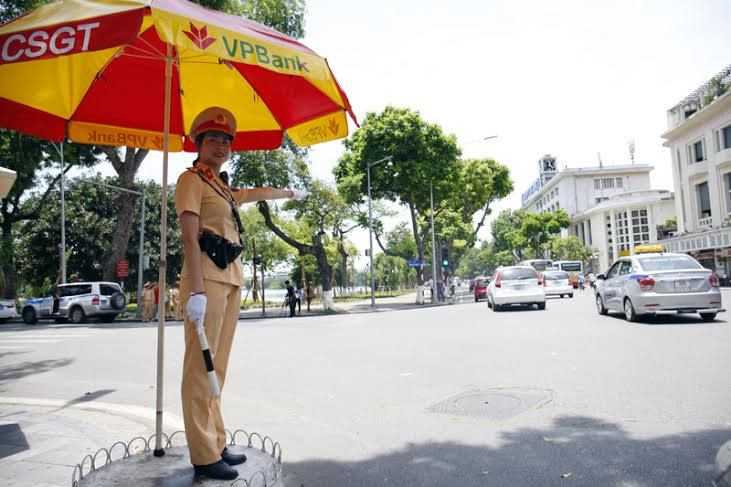police: (162, 105, 301, 478)
